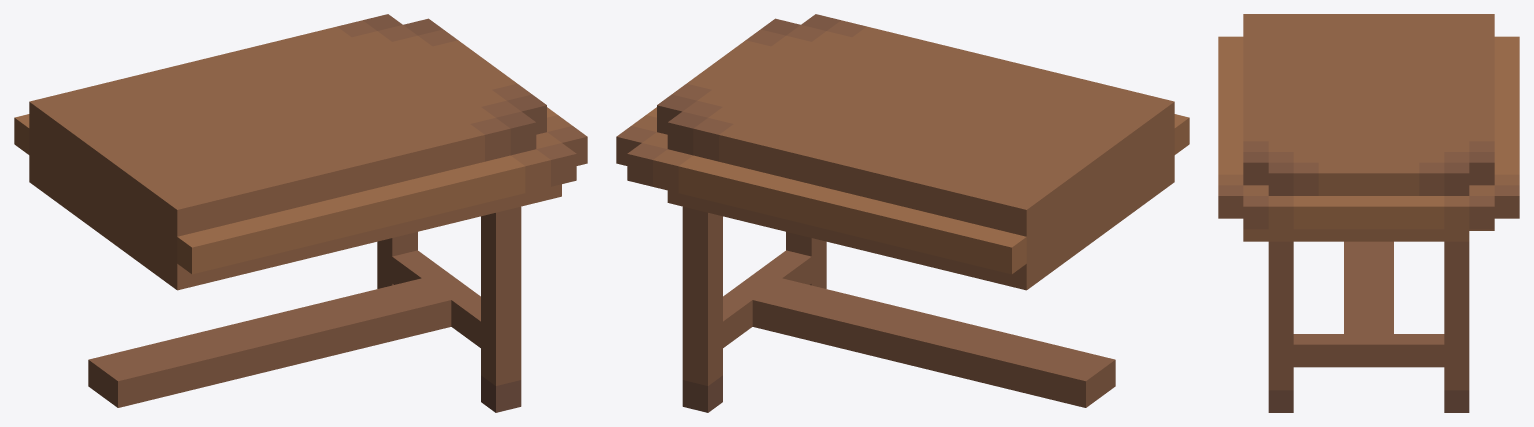
Rendered from Interior_Furniture-33.obj.
The picture shows the model from 3 angles, left to right: view 1: azimuth 30°, elevation 25°; view 2: azimuth 150°, elevation 25°; view 3: azimuth 270°, elevation 25°; orthographic projection. The views are drawn at different scales.
Bounding box in the file's own units: 1.6 × 1.1 × 1.2.
Materials: 1 (1 with a texture image).
